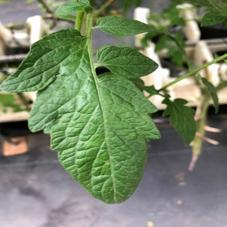Healthy: (0, 26, 162, 205), (95, 14, 152, 38)
